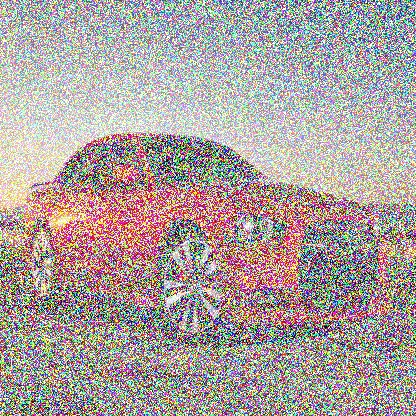Vehicle: (23, 135, 390, 348)
